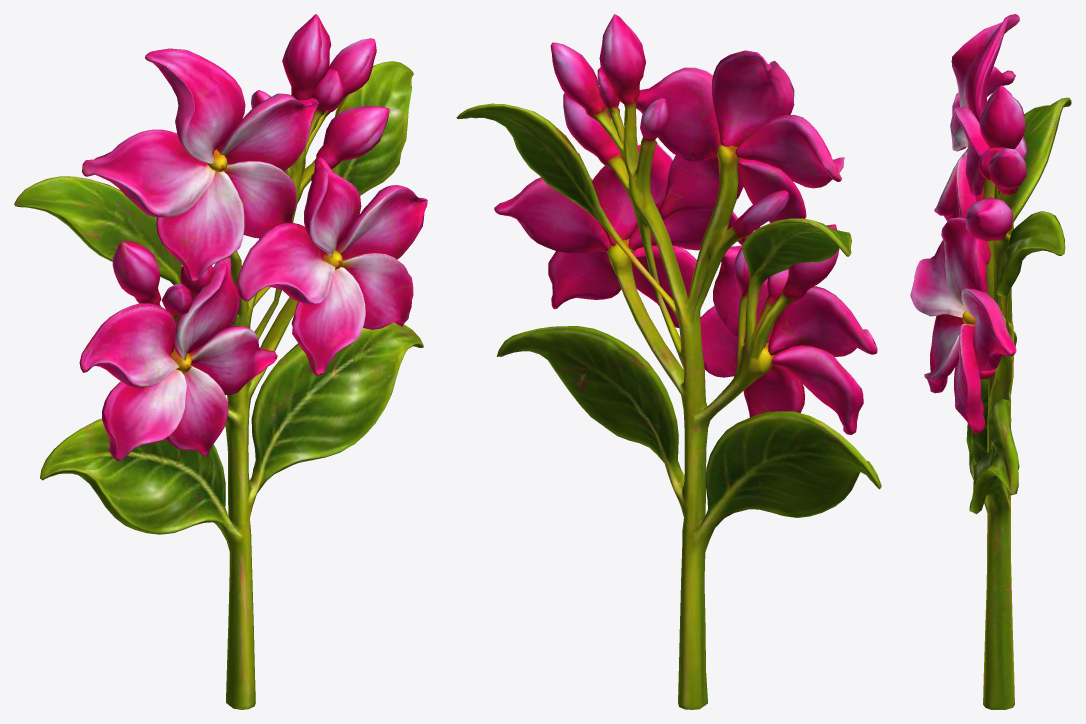
The model's file is plumeria.glb.
3 views of the same model, side by side, from view 1: azimuth 30°, elevation 25°; view 2: azimuth 150°, elevation 25°; view 3: azimuth 270°, elevation 25° (orthographic). The views are drawn at different scales.
Visible parts, largest first — view 1: geometry_0; view 2: geometry_0; view 3: geometry_0.
Boxes of the visible parts, x1,y1,x2,y2 form: geometry_0: (14, 14, 427, 709); geometry_0: (456, 14, 881, 709); geometry_0: (910, 14, 1071, 709).
Size of the model in its own units: 0.5898 by 0.9512 by 0.2114.
1 material, 1 textured.
